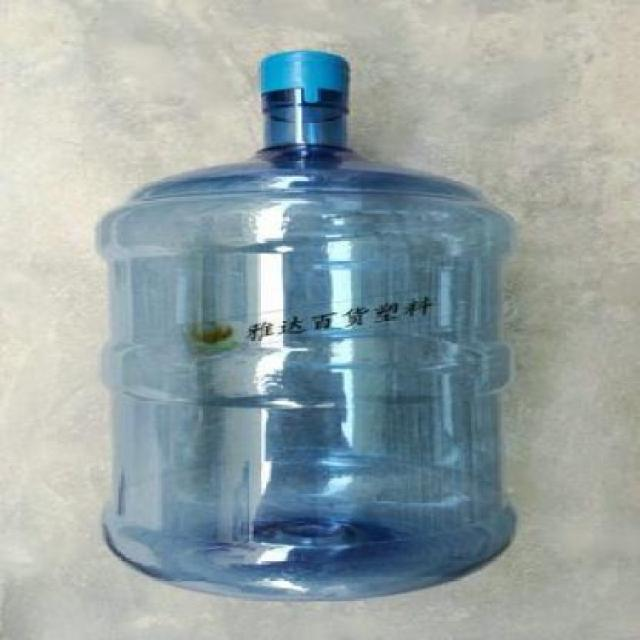coolerbottle: (84, 47, 526, 608)
